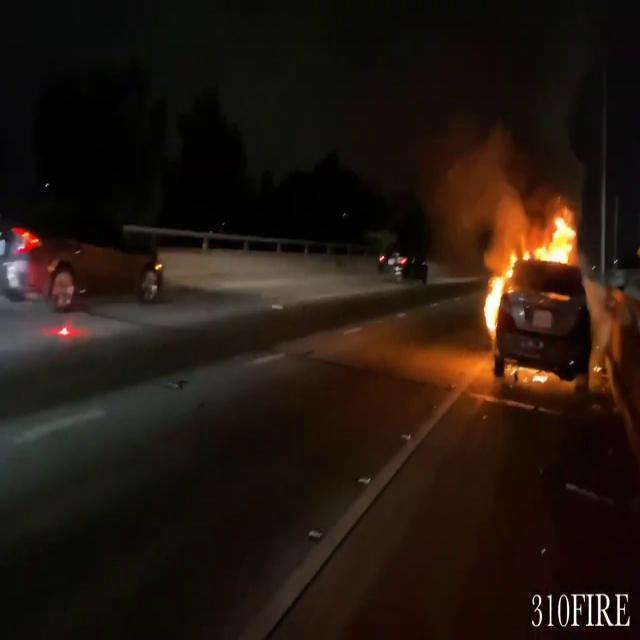Fire: (476, 245, 516, 338), (536, 210, 584, 269)
Smoke: (422, 106, 574, 244)
